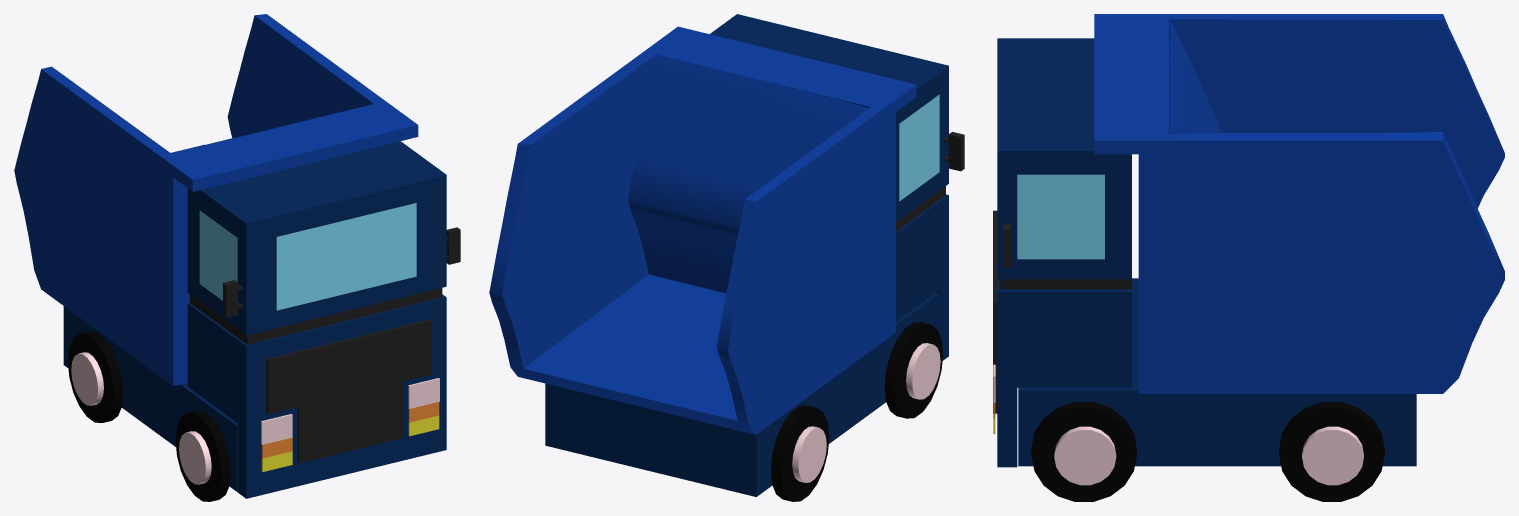
File: CamionPlastico.fbx
The picture shows the model from 3 angles, left to right: view 1: azimuth 30°, elevation 25°; view 2: azimuth 150°, elevation 25°; view 3: azimuth 270°, elevation 25°; orthographic projection. The views are drawn at different scales.
Visible parts, largest first — view 1: Box003, Box001, Box010, Box009, Box002, Cylinder003, Cylinder001, Box008, Cylinder002, Cylinder004, Box011, Box016 (+3 smaller); view 2: Box003, Box002, Box001, Box009, Cylinder001, Cylinder003, Cylinder004, Cylinder002, Box017; view 3: Box003, Box001, Box002, Box009, Cylinder007, Cylinder005, Cylinder006, Cylinder008, Box005, Box010.
Boxes of the visible parts, box(x1,y1,x2,y2) form: Box003: box(14, 14, 418, 386); Box001: box(187, 141, 446, 498); Box010: box(266, 319, 431, 463); Box009: box(199, 203, 416, 310); Box002: box(63, 306, 237, 491); Cylinder003: box(175, 410, 230, 501); Cylinder001: box(68, 332, 123, 422); Box008: box(248, 288, 440, 344); Cylinder002: box(71, 352, 103, 405); Cylinder004: box(179, 431, 211, 484); Box011: box(261, 414, 292, 444); Box016: box(408, 378, 439, 408); Box003: box(489, 26, 916, 434); Box002: box(545, 292, 939, 496); Box001: box(710, 14, 948, 360); Box009: box(899, 94, 939, 201); Cylinder001: box(770, 405, 829, 501); Cylinder003: box(884, 322, 942, 418); Cylinder004: box(906, 343, 940, 399); Cylinder002: box(792, 426, 826, 482); Box017: box(943, 132, 964, 171); Box003: box(1094, 14, 1504, 393); Box001: box(997, 38, 1131, 467); Box002: box(1018, 278, 1416, 466); Box009: box(1017, 174, 1104, 259); Cylinder007: box(1031, 402, 1136, 501); Cylinder005: box(1279, 402, 1384, 501); Cylinder006: box(1302, 426, 1363, 485); Cylinder008: box(1054, 426, 1116, 485); Box005: box(999, 279, 1131, 289); Box010: box(993, 210, 997, 413).
Bounding box in the file's own units: 642 × 830 × 1054.
